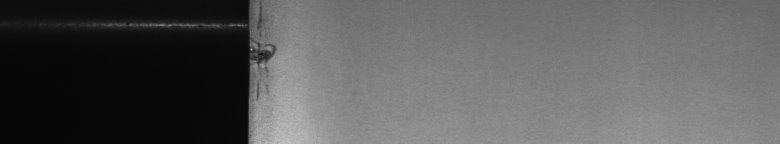hb: (260, 4, 280, 96)
